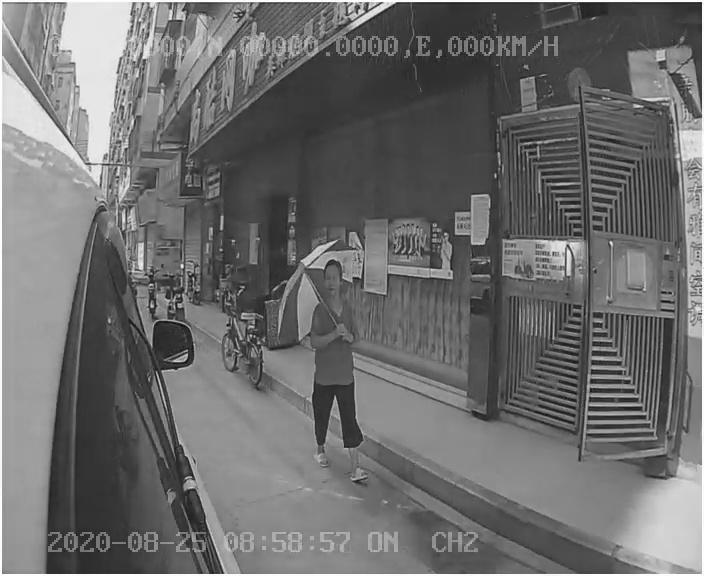person: (300, 261, 385, 487)
